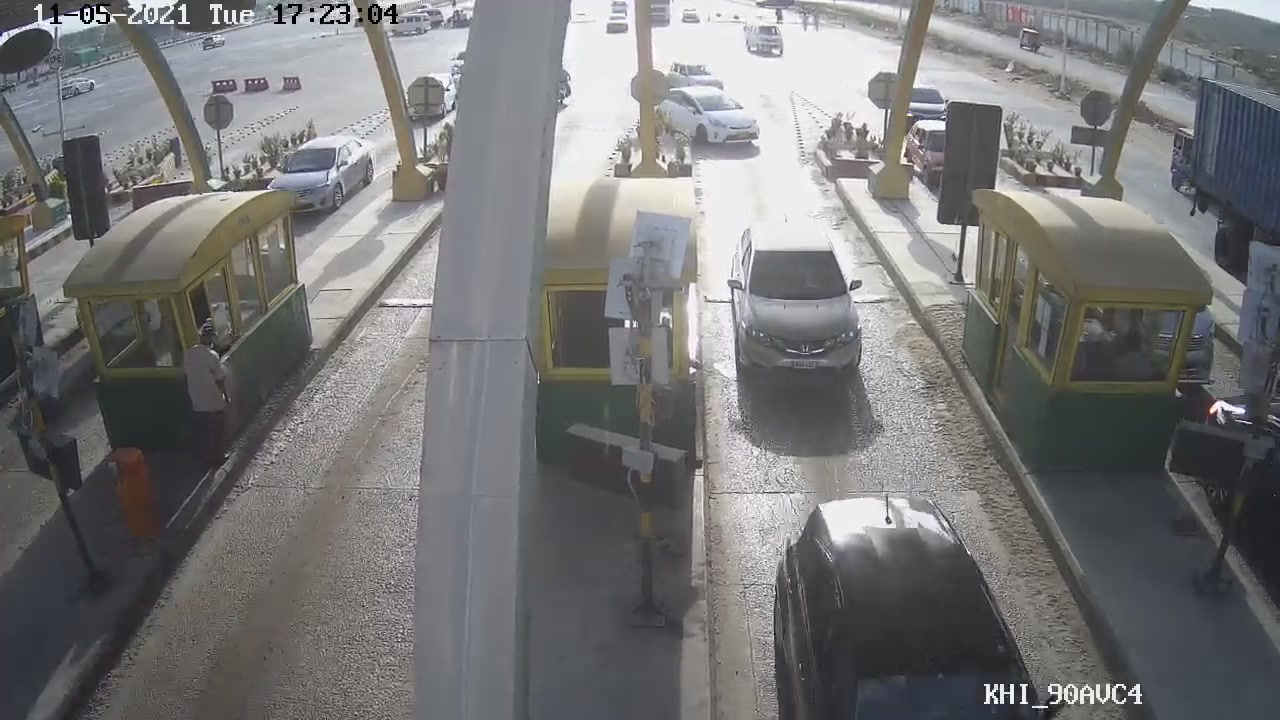F1: (725, 218, 865, 380)
